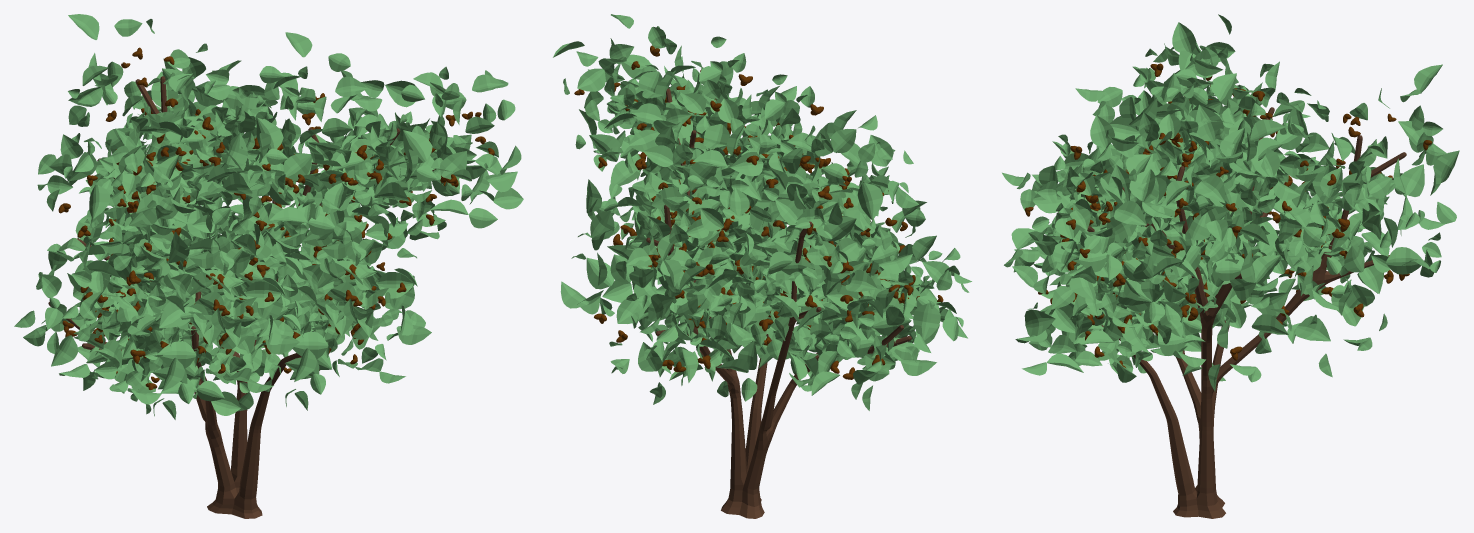
The model's file is mod_vg_noisetier.fbx.
3 renders of one model, left to right at view 1: azimuth 30°, elevation 25°; view 2: azimuth 150°, elevation 25°; view 3: azimuth 270°, elevation 25°, orthographic. The views are drawn at different scales.
Visible parts, largest first — view 1: Plane, Plane.326, Plane.1326, Plane.076, Plane.007, Plane.257, Plane.1019; view 2: Plane, Plane.546, Plane.796, Plane.1380, Plane.1863, Plane.1601, Plane.827, Plane.1107, Plane.1351, Plane.1130; view 3: Plane, Plane.1837, Plane.1146, Plane.1796, Plane.1923, Plane.1342, Plane.089, Plane.1092, Plane.1127, Plane.1327, Plane.1077.
Part boxes in pixels (x1=…): Plane: x1=48, y1=76, x2=435, y2=518; Plane.326: x1=157, y1=341, x2=196, y2=368; Plane.1326: x1=403, y1=130, x2=432, y2=163; Plane.076: x1=292, y1=332, x2=328, y2=359; Plane.007: x1=377, y1=272, x2=414, y2=298; Plane.257: x1=245, y1=281, x2=282, y2=307; Plane.1019: x1=283, y1=153, x2=311, y2=180; Plane: x1=646, y1=88, x2=911, y2=518; Plane.546: x1=913, y1=303, x2=940, y2=340; Plane.796: x1=857, y1=183, x2=883, y2=220; Plane.1380: x1=577, y1=68, x2=605, y2=91; Plane.1863: x1=590, y1=211, x2=614, y2=239; Plane.1601: x1=586, y1=257, x2=614, y2=289; Plane.827: x1=831, y1=129, x2=856, y2=152; Plane.1107: x1=730, y1=152, x2=763, y2=176; Plane.1351: x1=589, y1=134, x2=620, y2=161; Plane.1130: x1=628, y1=129, x2=659, y2=152; Plane: x1=1087, y1=107, x2=1406, y2=518; Plane.1837: x1=1386, y1=247, x2=1424, y2=274; Plane.1146: x1=1195, y1=104, x2=1223, y2=141; Plane.1796: x1=1295, y1=316, x2=1330, y2=341; Plane.1923: x1=1400, y1=164, x2=1424, y2=196; Plane.1342: x1=1113, y1=200, x2=1146, y2=225; Plane.089: x1=1024, y1=309, x2=1055, y2=336; Plane.1092: x1=1196, y1=175, x2=1225, y2=202; Plane.1127: x1=1210, y1=73, x2=1236, y2=105; Plane.1327: x1=1090, y1=115, x2=1114, y2=147; Plane.1077: x1=1172, y1=22, x2=1196, y2=53.
Size of the model in its own units: 330 by 308 by 290.
